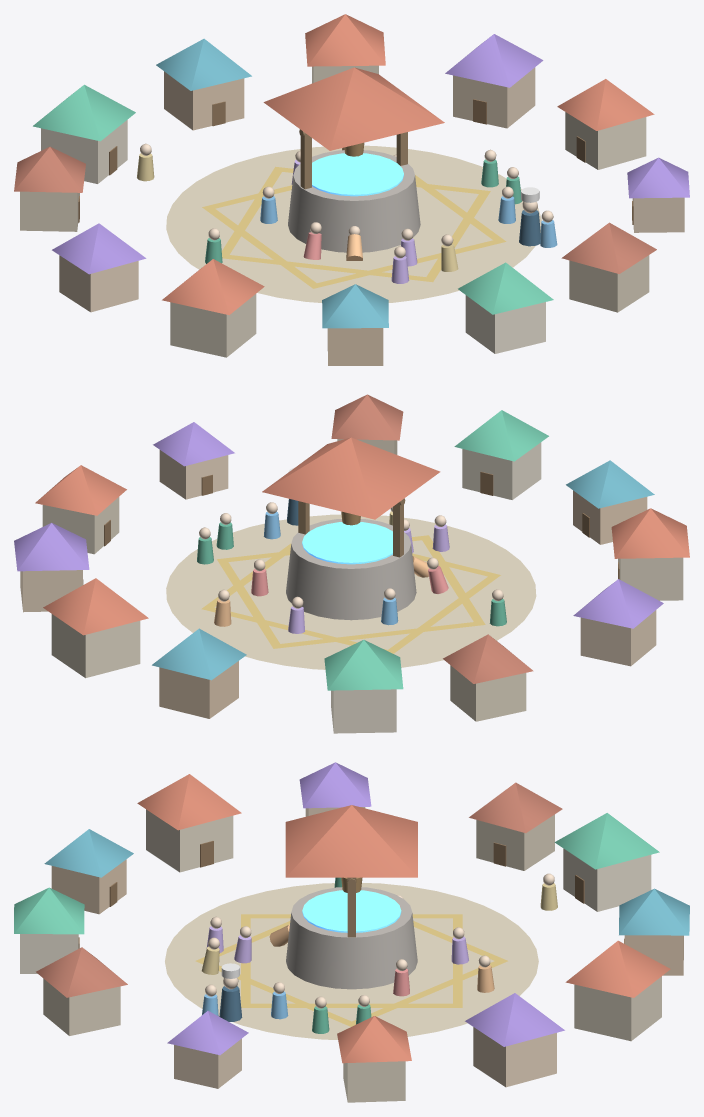
Rendered from waqf.glb.
3 renders of one model, top to bottom at view 1: azimuth 30°, elevation 25°; view 2: azimuth 150°, elevation 25°; view 3: azimuth 270°, elevation 25°, orthographic.
Size of the model in its own units: 0.5447 by 0.142 by 0.5436.
